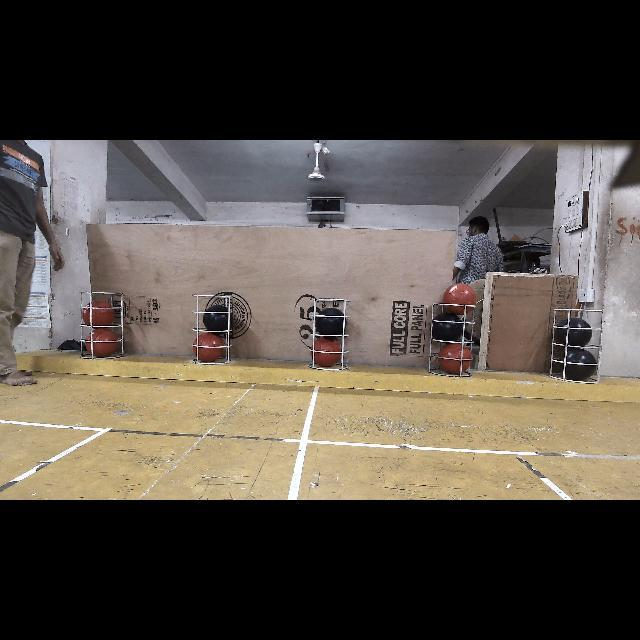P: (560, 348, 598, 380), (556, 317, 592, 349), (315, 308, 349, 340), (202, 303, 234, 335), (430, 314, 464, 344)
R: (442, 282, 476, 316), (84, 328, 120, 358), (438, 344, 472, 374), (82, 300, 115, 330), (311, 337, 341, 367), (193, 333, 224, 362)
S: (547, 306, 607, 386), (76, 284, 132, 358), (426, 300, 482, 374), (305, 296, 355, 372), (186, 294, 237, 364)
